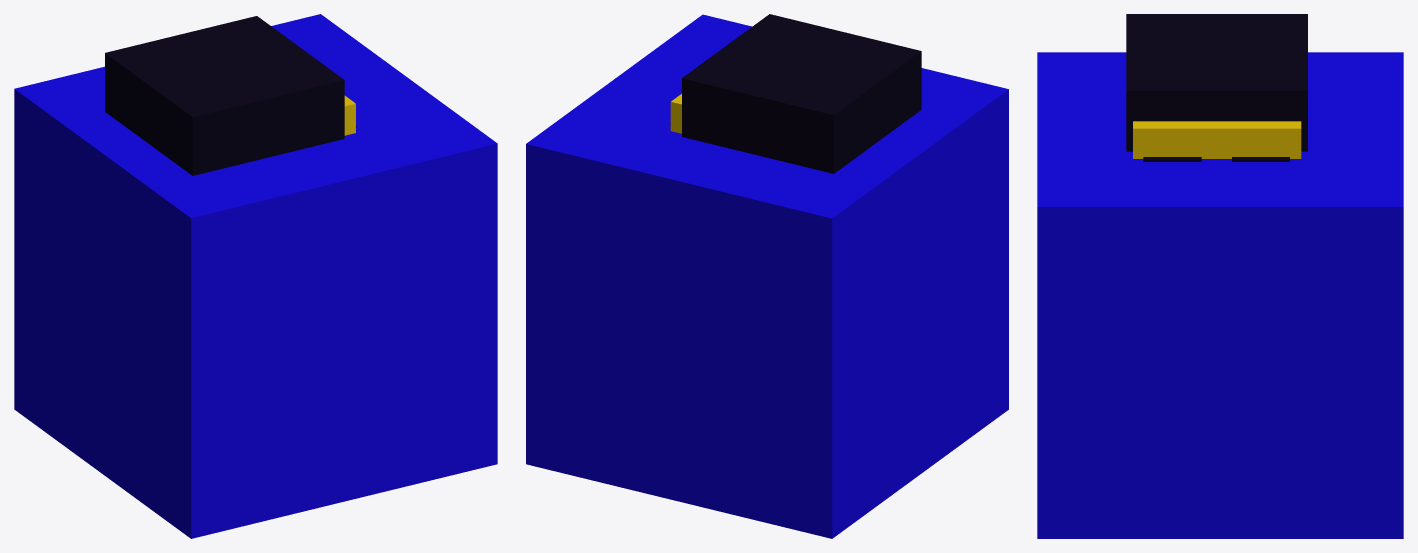
The model's file is mu-neo.glb.
3 renders of one model, left to right at view 1: azimuth 30°, elevation 25°; view 2: azimuth 150°, elevation 25°; view 3: azimuth 270°, elevation 25°, orthographic. The views are drawn at different scales.
Visible parts, largest first — view 1: Cube, Cube.001; view 2: Cube, Cube.001; view 3: Cube, Cube.001.
Part boxes in pixels (left/top/right/bottom): Cube: left=14, top=14, right=497, bottom=538; Cube.001: left=105, top=16, right=356, bottom=175; Cube: left=526, top=14, right=1008, bottom=538; Cube.001: left=670, top=14, right=921, bottom=173; Cube: left=1037, top=52, right=1403, bottom=538; Cube.001: left=1126, top=14, right=1307, bottom=161.
Size of the model in its own units: 2 by 2.38 by 2.
